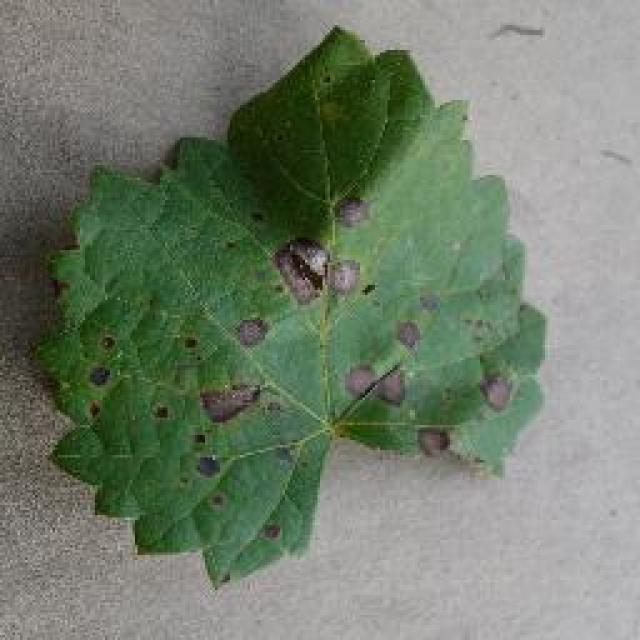Grape___Black_rot: (24, 26, 559, 600)
